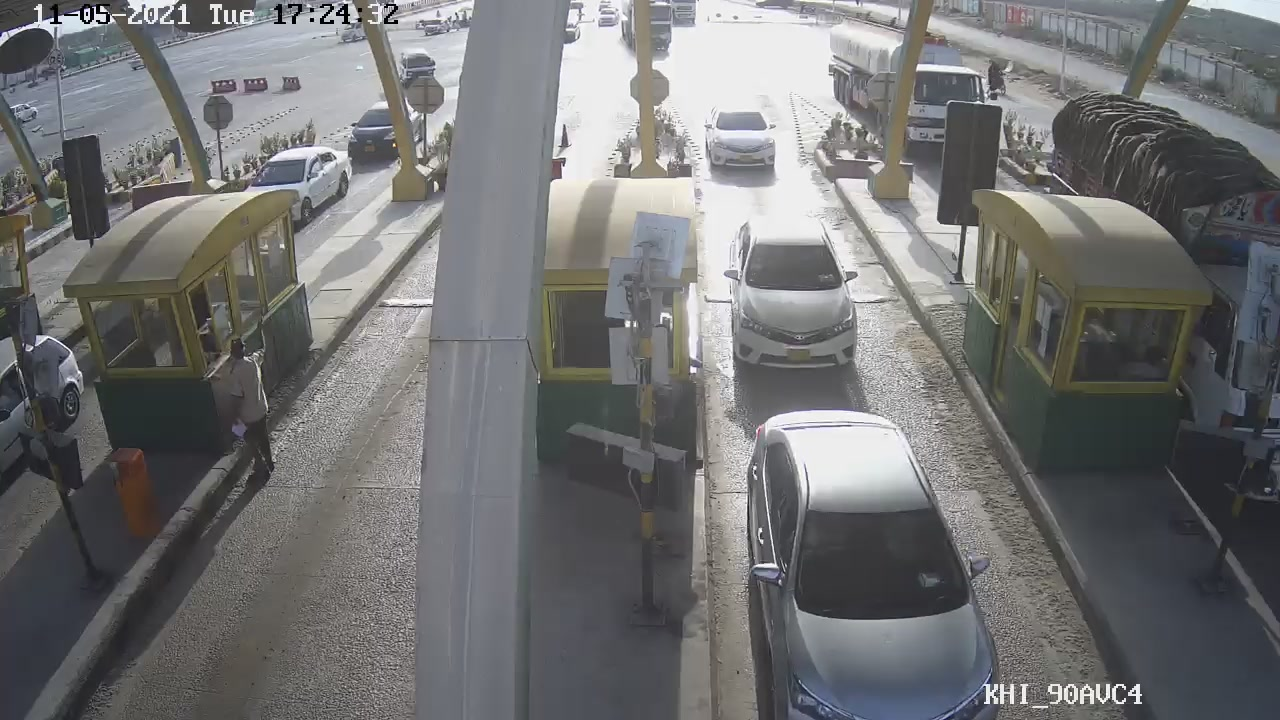F1: (715, 208, 869, 373)
